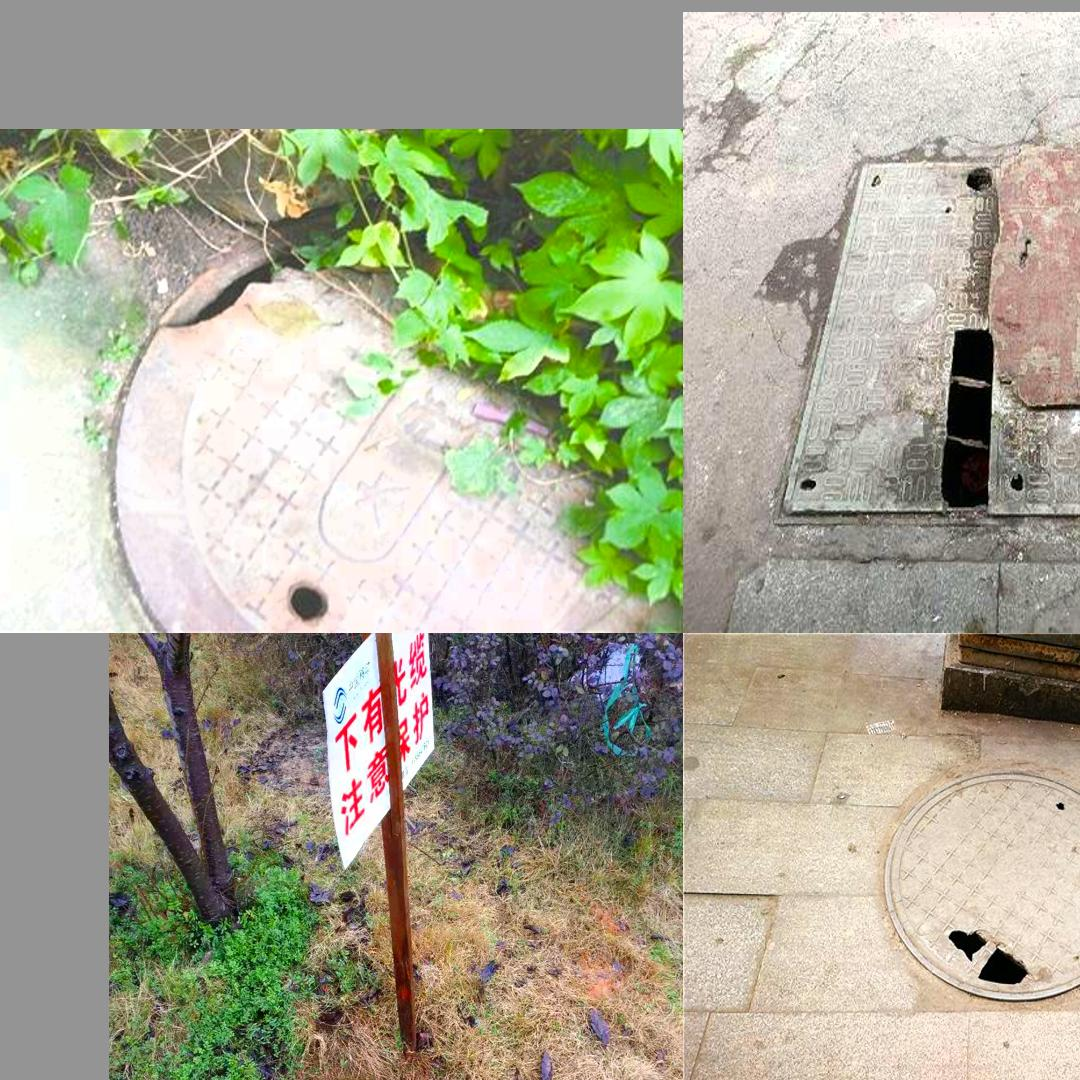broke: (62, 219, 677, 633), (772, 131, 1080, 553), (885, 767, 1080, 1000), (206, 1078, 499, 1080)
